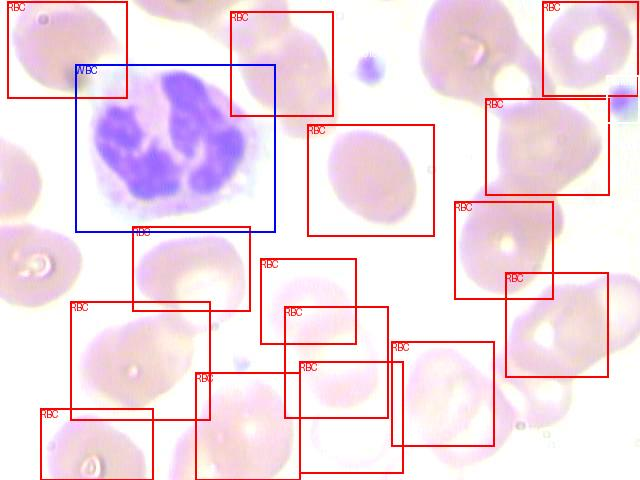Platelets: (346, 47, 387, 94), (606, 75, 639, 123)
RBC: (70, 301, 210, 420), (307, 124, 434, 236), (485, 98, 609, 195), (284, 306, 388, 418), (299, 361, 403, 473), (7, 1, 127, 98), (195, 372, 300, 480), (391, 341, 494, 446), (230, 11, 333, 116), (505, 272, 608, 377), (132, 226, 250, 311), (454, 201, 553, 299), (542, 1, 638, 96), (260, 258, 356, 344), (40, 408, 153, 480)
WBC: (75, 64, 275, 232)
